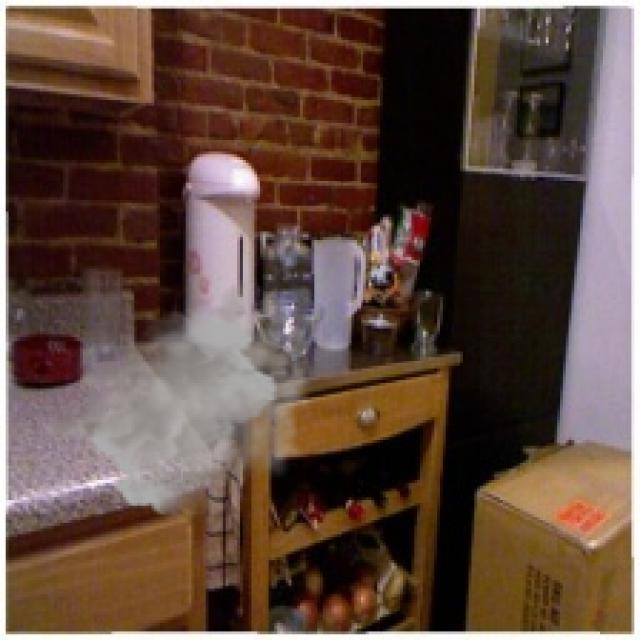smoke: (37, 277, 314, 520)
